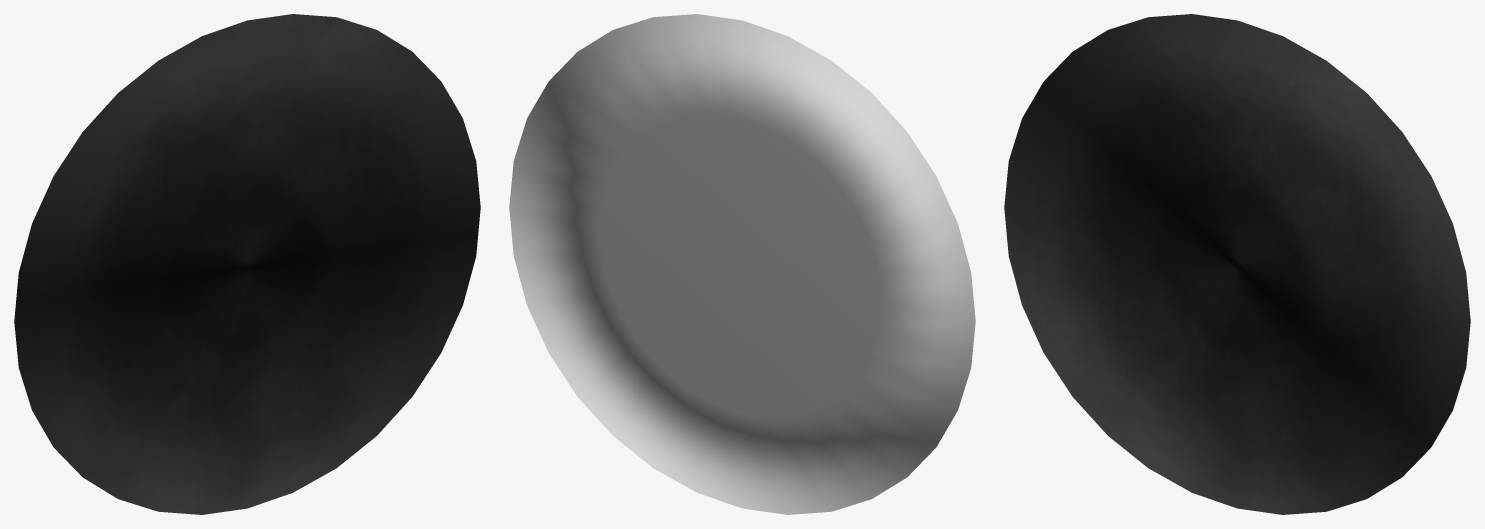
File: shadow2.fbx
The picture shows the model from 3 angles, left to right: view 1: azimuth 30°, elevation 25°; view 2: azimuth 150°, elevation 25°; view 3: azimuth 330°, elevation 25°; orthographic projection.
Visible parts, largest first — view 1: Cylinder; view 2: Cylinder; view 3: Cylinder.
Part boxes in pixels (bbox=[...]): Cylinder: bbox=[14, 14, 480, 514]; Cylinder: bbox=[509, 14, 975, 514]; Cylinder: bbox=[1004, 14, 1470, 514].
Bounding box in the file's own units: 3 × 3 × 0.0261.
Materials: 2 (1 with a texture image).
